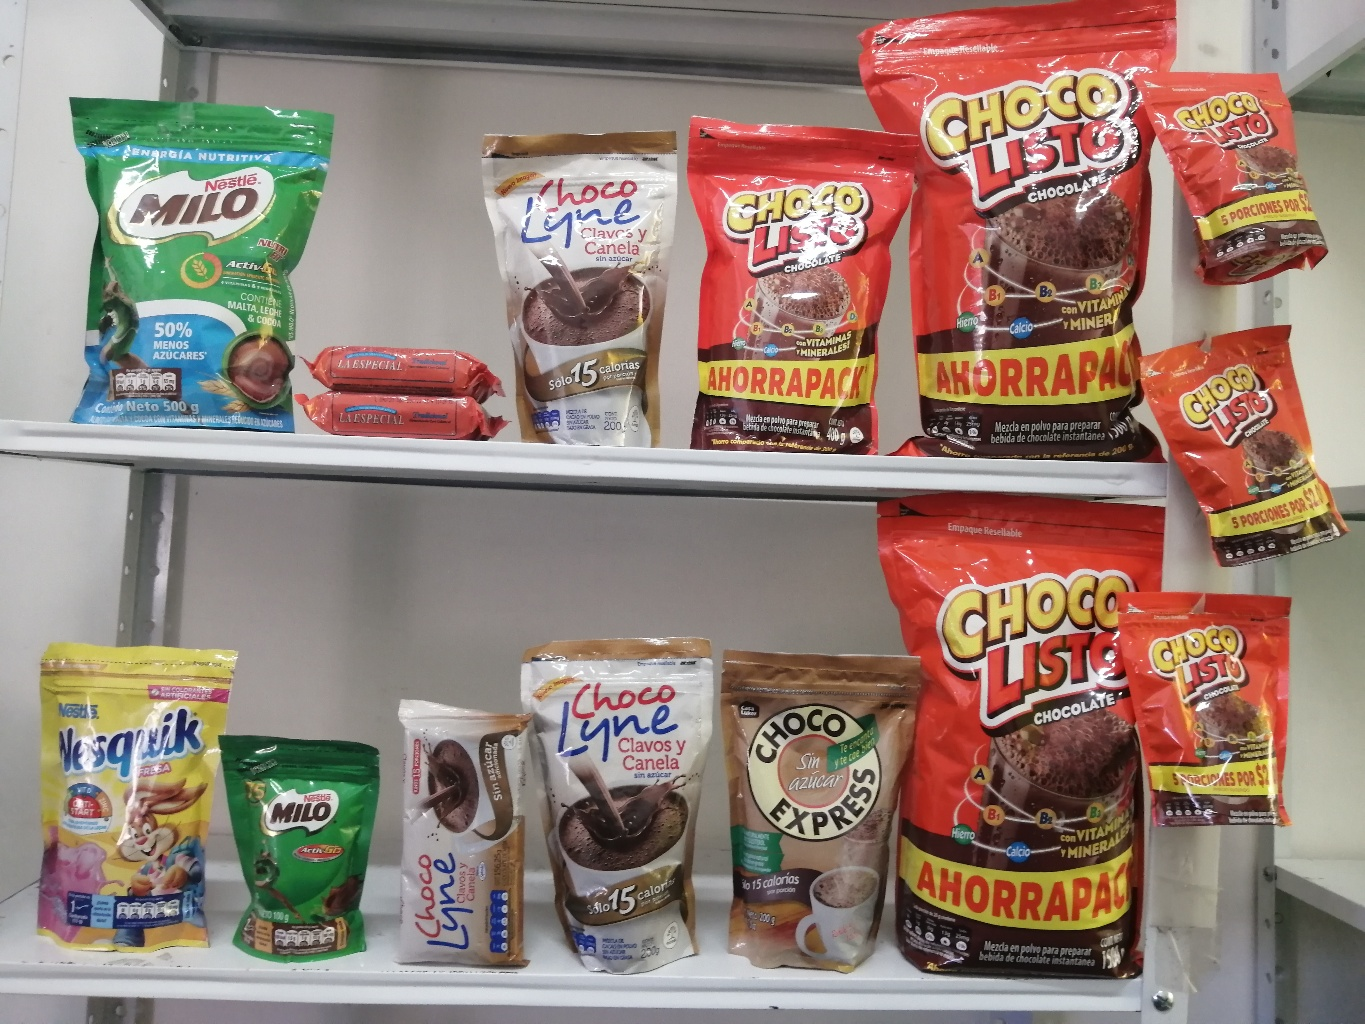COL0170103DYP1,500: (847, 483, 1194, 997)
COL0170103DYP10000: (1117, 43, 1343, 290)
COL0170103DYP40000: (664, 101, 934, 460)
COL0170203DYP10000: (209, 713, 397, 972)
COL0170205DYP50000: (9, 73, 349, 444)
COL0170305DYP20000: (15, 630, 252, 962)
